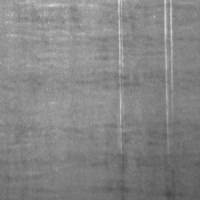scratches: (162, 1, 177, 129), (115, 1, 126, 142)
